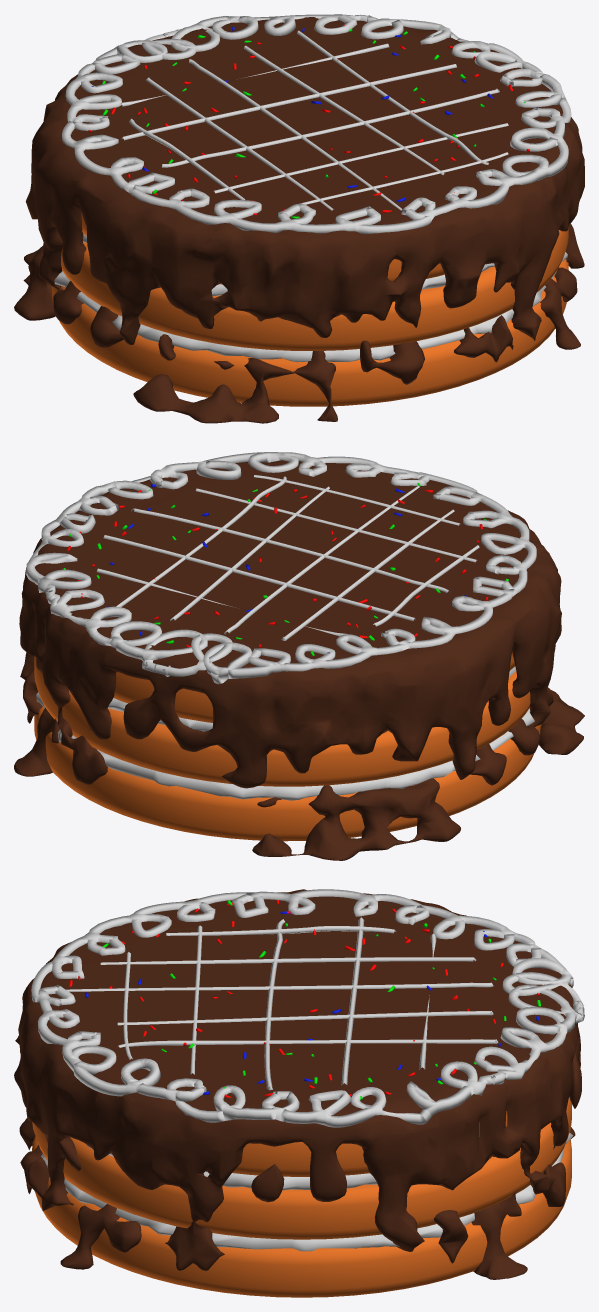
Rendered from ice.glb.
3 renders of one model, top to bottom at view 1: azimuth 30°, elevation 25°; view 2: azimuth 150°, elevation 25°; view 3: azimuth 270°, elevation 25°, orthographic. The views are drawn at different scales.
Parts seen in each view (by area): view 1: Cube, BezierCurve, Cylinder, Cylinder.002, BezierCurve.001, Cube.001, Cylinder.042; view 2: Cube, BezierCurve, Cylinder, Cylinder.002, BezierCurve.001, Cube.001, Cylinder.003, Cylinder.042, Cube.002; view 3: Cube, BezierCurve, Cylinder, Cylinder.002, BezierCurve.001, Cube.001, Cylinder.003, Cylinder.042, Cube.002.
Boxes of the visible parts, box(x1,y1,x2,y2) form: Cube: box(14, 17, 584, 423); BezierCurve: box(62, 14, 571, 234); Cylinder: box(51, 259, 568, 406); Cylinder.002: box(61, 227, 568, 350); BezierCurve.001: box(121, 30, 508, 210); Cube.001: box(54, 252, 567, 362); Cylinder.042: box(88, 24, 538, 218); Cube: box(14, 460, 584, 860); BezierCurve: box(26, 452, 536, 684); Cylinder: box(34, 706, 541, 841); Cylinder.002: box(34, 656, 530, 786); BezierCurve.001: box(96, 475, 479, 640); Cube.001: box(36, 692, 534, 800); Cylinder.003: box(113, 652, 515, 722); Cylinder.042: box(63, 471, 510, 655); Cube.002: box(108, 666, 516, 731); Cube: box(14, 889, 581, 1279); BezierCurve: box(31, 889, 584, 1127); Cylinder: box(31, 1136, 571, 1297); Cylinder.002: box(32, 1097, 571, 1239); BezierCurve.001: box(66, 917, 498, 1090); Cube.001: box(41, 1132, 573, 1251); Cylinder.003: box(232, 1111, 507, 1176); Cylinder.042: box(69, 900, 540, 1100); Cube.002: box(86, 1144, 377, 1190).
Bounding box in the file's own units: 415 × 165 × 421.
